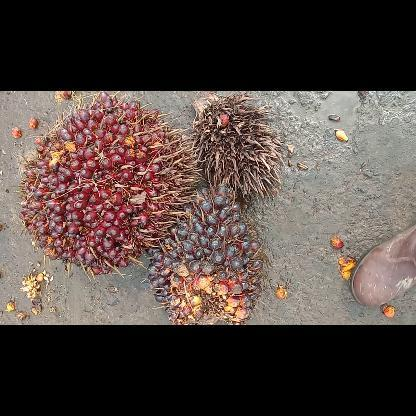Janjang kosong: (191, 91, 285, 207)
TBS masak: (15, 91, 201, 277)
TBS mentah: (147, 184, 263, 324)
